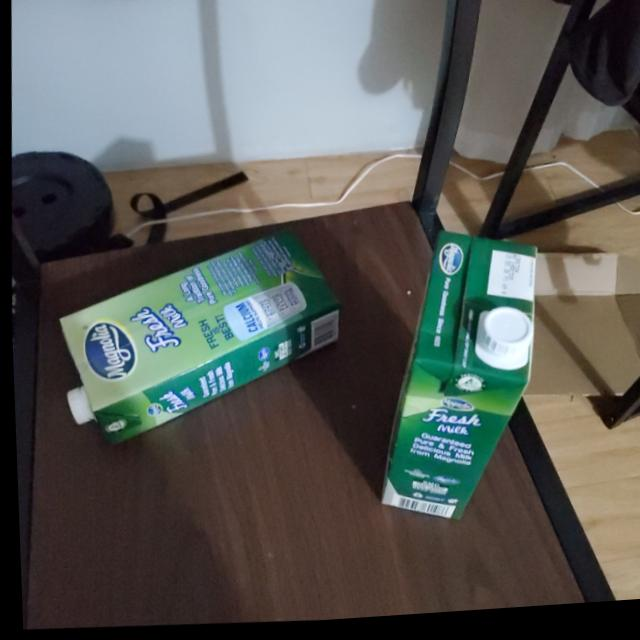milk: (46, 220, 343, 459), (362, 232, 544, 537)
